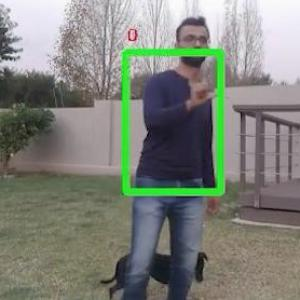land_hand: (180, 64, 218, 106)
